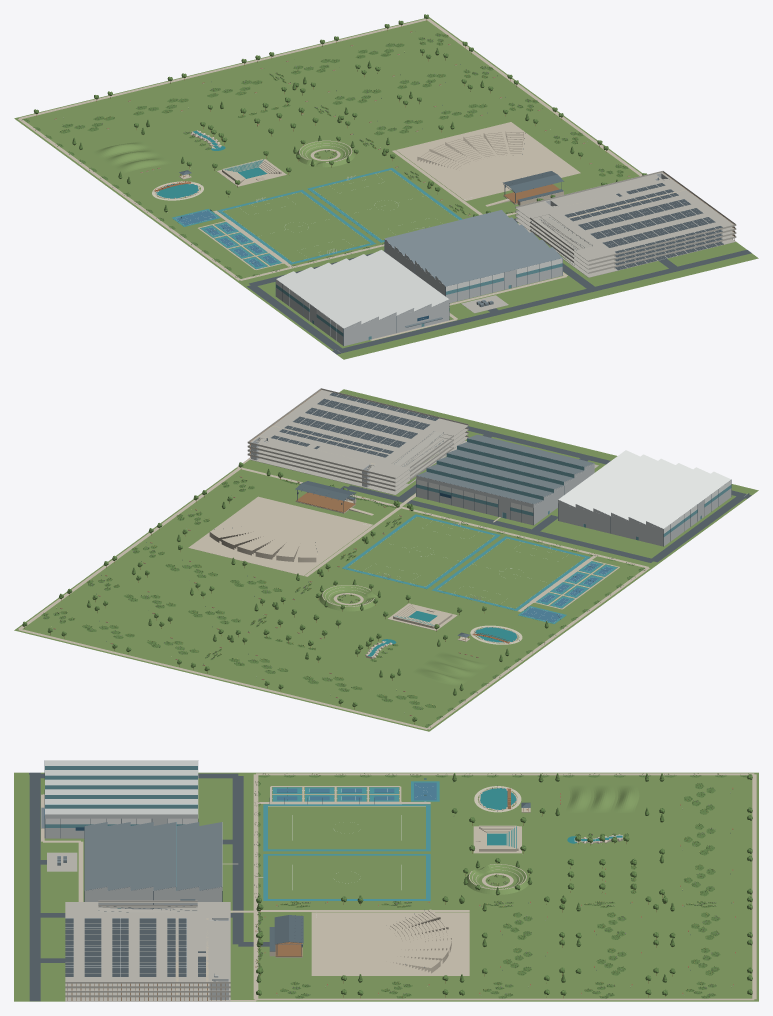
Rendered from option-02.glb.
3 views of the same model, one above another, from view 1: azimuth 30°, elevation 25°; view 2: azimuth 150°, elevation 25°; view 3: azimuth 270°, elevation 25° (orthographic). The views are drawn at different scales.
Parts seen in each view (by area): view 1: 30 acre outdoor activity allocation, option-02 assumed site platform, soccer-2 playing surface, option-02 Landscape Paved audience reservation 8000 concept , soccer-1 playing surface, Roof_events northlight_sawtooth insulated roof, Roof_sports northlight_sawtooth insulated roof, Roof_events northlight_sawtooth insulated roof.001, Roof_sports northlight_sawtooth insulated roof.001, Garage L5 deck patch 6-1, primary-front corridor 0, option-02 Landscape Native tree lobed canopy (+13 smaller); view 2: 30 acre outdoor activity allocation, option-02 assumed site platform, option-02 Landscape Paved audience reservation 8000 concept , soccer-2 playing surface, soccer-1 playing surface, Roof_sports northlight_sawtooth insulated roof, Roof_sports northlight_sawtooth insulated roof.001, Garage L5 deck patch 6-1, Roof_events northlight_sawtooth insulated roof, Roof_events northlight_sawtooth insulated roof.001, option-02 Landscape Native tree lobed canopy, option-02 Landscape Prairie dimensional folded blades (+16 smaller); view 3: 30 acre outdoor activity allocation, option-02 assumed site platform, option-02 Landscape Paved audience reservation 8000 concept , soccer-2 playing surface, soccer-1 playing surface, Roof_events northlight_sawtooth insulated roof, Roof_events northlight_sawtooth insulated roof.001, Garage L5 deck patch 6-1, Roof_sports northlight_sawtooth insulated roof, Roof_sports northlight_sawtooth insulated roof.001, primary-front corridor 0, option-02 Landscape Native tree lobed canopy (+34 smaller).
Part boxes in pixels (box(x1,y1,x2,y2)): 30 acre outdoor activity allocation: box(14, 17, 642, 282); option-02 assumed site platform: box(239, 215, 758, 359); soccer-2 playing surface: box(223, 192, 370, 262); option-02 Landscape Paved audience reservation 8000 concept : box(396, 122, 580, 200); soccer-1 playing surface: box(313, 170, 458, 240); Roof_events northlight_sawtooth insulated roof: box(415, 232, 562, 286); Roof_sports northlight_sawtooth insulated roof: box(276, 262, 396, 328); Roof_events northlight_sawtooth insulated roof.001: box(385, 210, 529, 263); Roof_sports northlight_sawtooth insulated roof.001: box(332, 250, 448, 315); Garage L5 deck patch 6-1: box(565, 186, 705, 241); primary-front corridor 0: box(332, 250, 751, 354); option-02 Landscape Native tree lobed canopy: box(34, 14, 647, 216); 30 acre outdoor activity allocation: box(14, 467, 653, 731); option-02 assumed site platform: box(242, 389, 758, 567); option-02 Landscape Paved audience reservation 8000 concept : box(188, 496, 372, 575); soccer-2 playing surface: box(437, 538, 584, 608); soccer-1 playing surface: box(347, 516, 494, 586); Roof_sports northlight_sawtooth insulated roof: box(611, 463, 730, 528); Roof_sports northlight_sawtooth insulated roof.001: box(558, 450, 675, 515); Garage L5 deck patch 6-1: box(276, 404, 417, 459); Roof_events northlight_sawtooth insulated roof: box(447, 434, 594, 481); Roof_events northlight_sawtooth insulated roof.001: box(416, 457, 563, 504); option-02 Landscape Native tree lobed canopy: box(22, 462, 486, 721); option-02 Landscape Prairie dimensional folded blades: box(43, 479, 644, 727); 30 acre outdoor activity allocation: box(251, 772, 758, 1001); option-02 assumed site platform: box(14, 772, 251, 1001); option-02 Landscape Paved audience reservation 8000 concept : box(311, 912, 469, 975); soccer-2 playing surface: box(268, 806, 425, 849); soccer-1 playing surface: box(268, 855, 425, 898); Roof_events northlight_sawtooth insulated roof: box(84, 822, 153, 890); Roof_events northlight_sawtooth insulated roof.001: box(153, 822, 222, 890); Garage L5 deck patch 6-1: box(98, 921, 197, 975); Roof_sports northlight_sawtooth insulated roof: box(45, 760, 197, 785); Roof_sports northlight_sawtooth insulated roof.001: box(45, 789, 197, 814); primary-front corridor 0: box(29, 772, 40, 1001); option-02 Landscape Native tree lobed canopy: box(256, 774, 752, 995).
Bounding box in the file's own units: 360 × 18.65 × 495.
